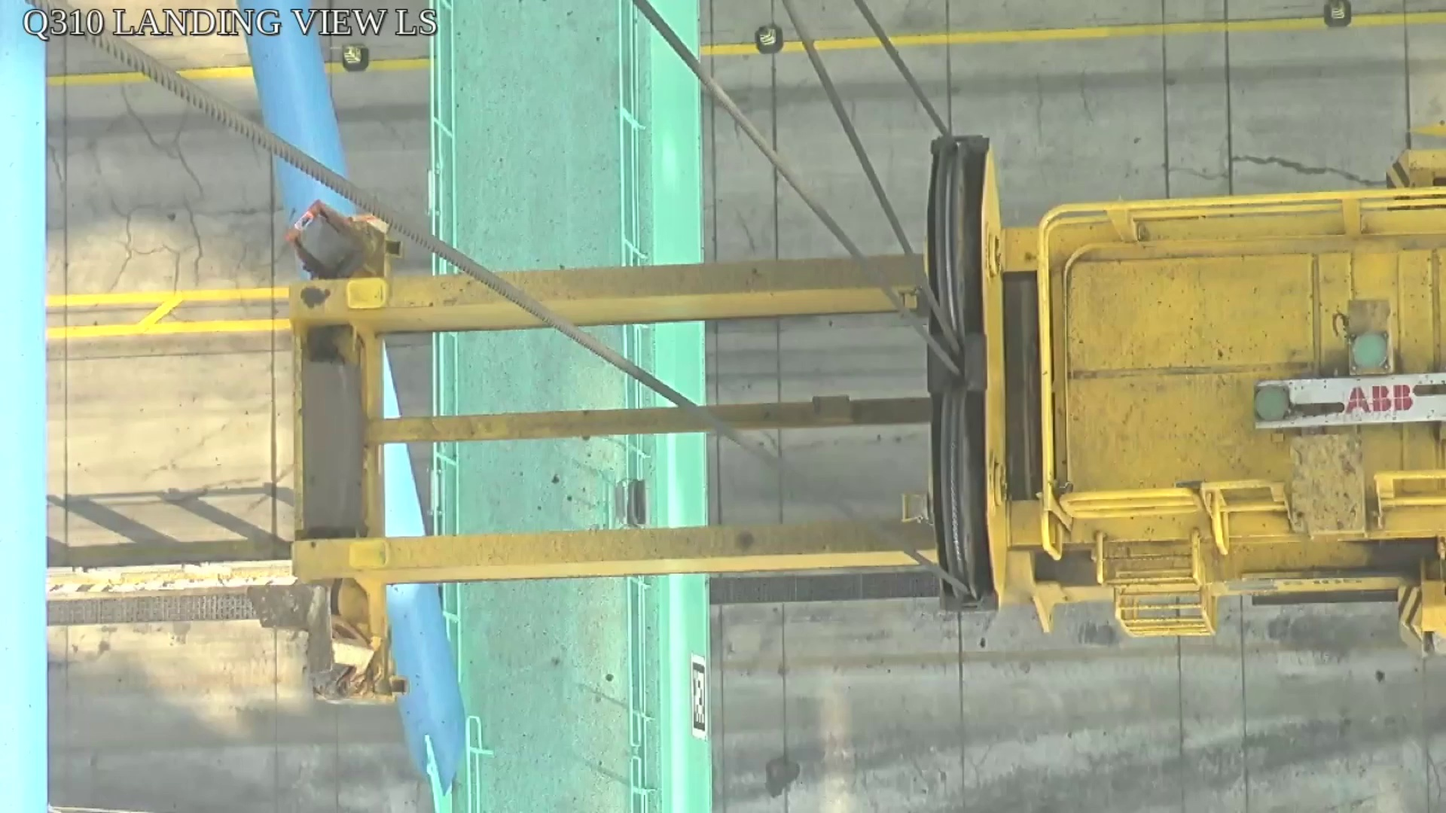aa: (923, 134, 1013, 611)
